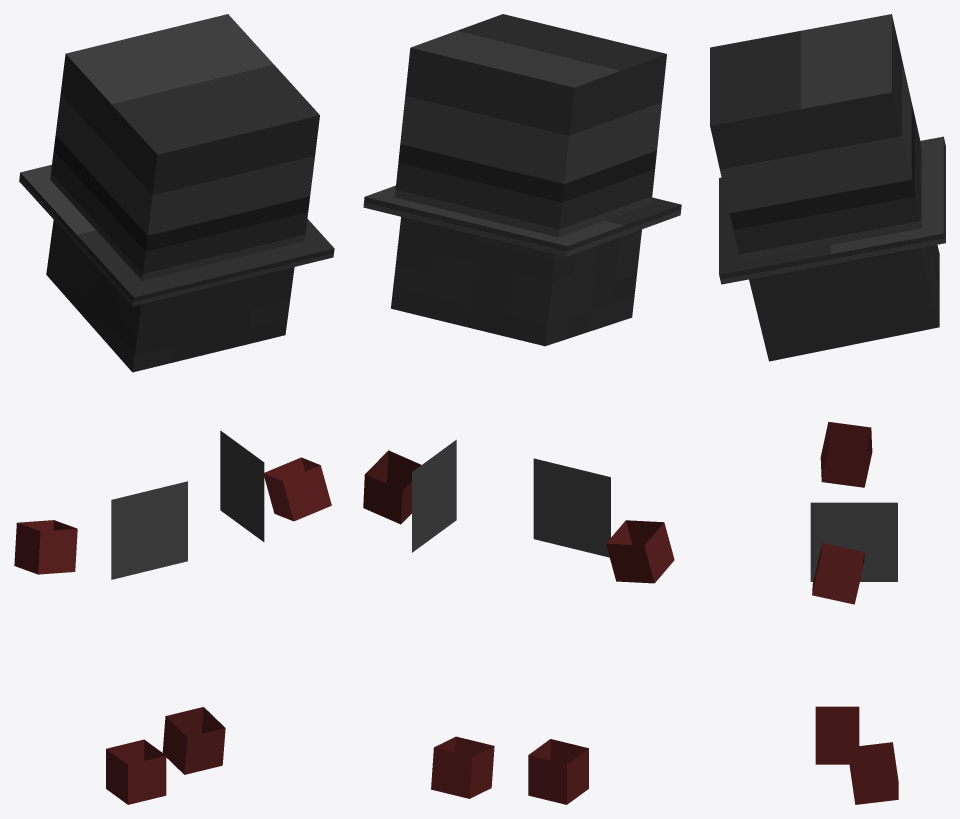
Rendered from mrbones.obj.
The picture shows the model from 3 angles, left to right: view 1: azimuth 30°, elevation 25°; view 2: azimuth 150°, elevation 25°; view 3: azimuth 270°, elevation 25°; orthographic projection. The views are drawn at different scales.
Visible parts, largest first — view 1: head, body, &Genericlight_FF0000_FFFFF_110; view 2: head, body; view 3: head, body.
Boxes of the visible parts, x1,y1,x2,y2 form: head: (19,14,334,372); body: (14,430,331,804); &Genericlight_FF0000_FFFFF_110: (159,271,275,314); head: (363,14,681,346); body: (363,440,674,804); head: (710,14,945,361); body: (810,422,898,804).
Size of the model in its own units: 2.33 by 5.56 by 1.64.
